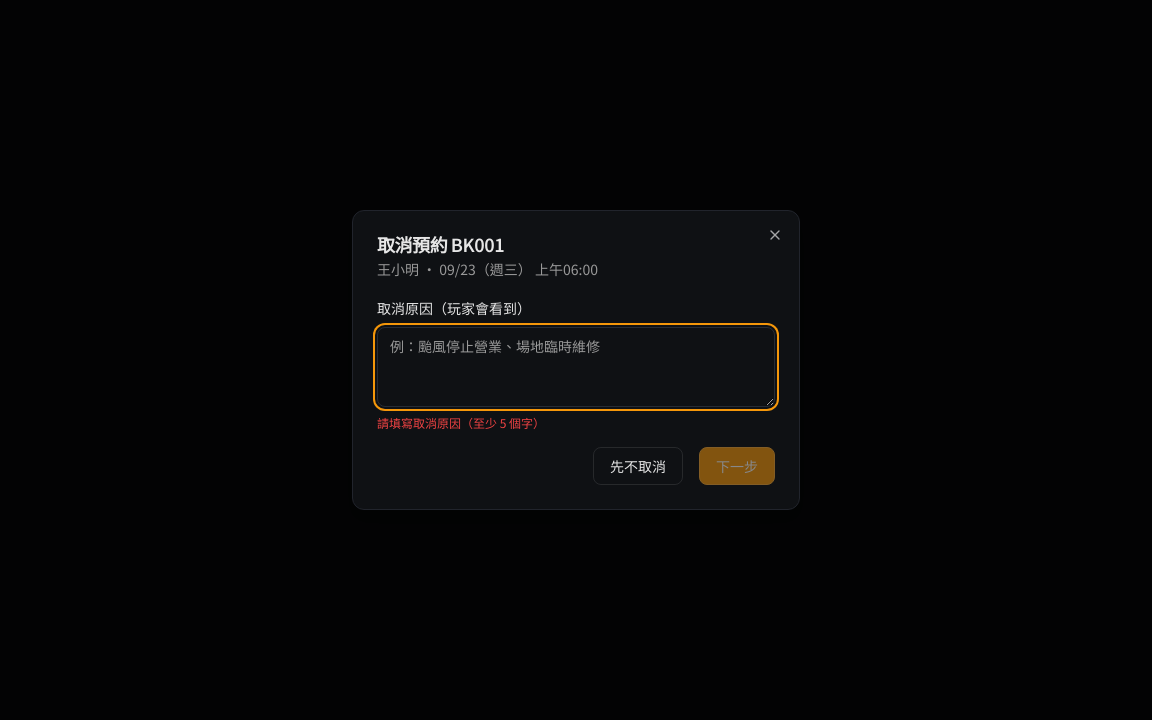
Test: CancelBookingDialog › 填滿 5 字 → 可按下一步，進入確認步驟顯示影響與原因、尚未送出
Type "颱風停業中" into the text box with test id "input-cancel-reason".
click(576, 367); type("颱風停業中")  # box [377,327,775,407]
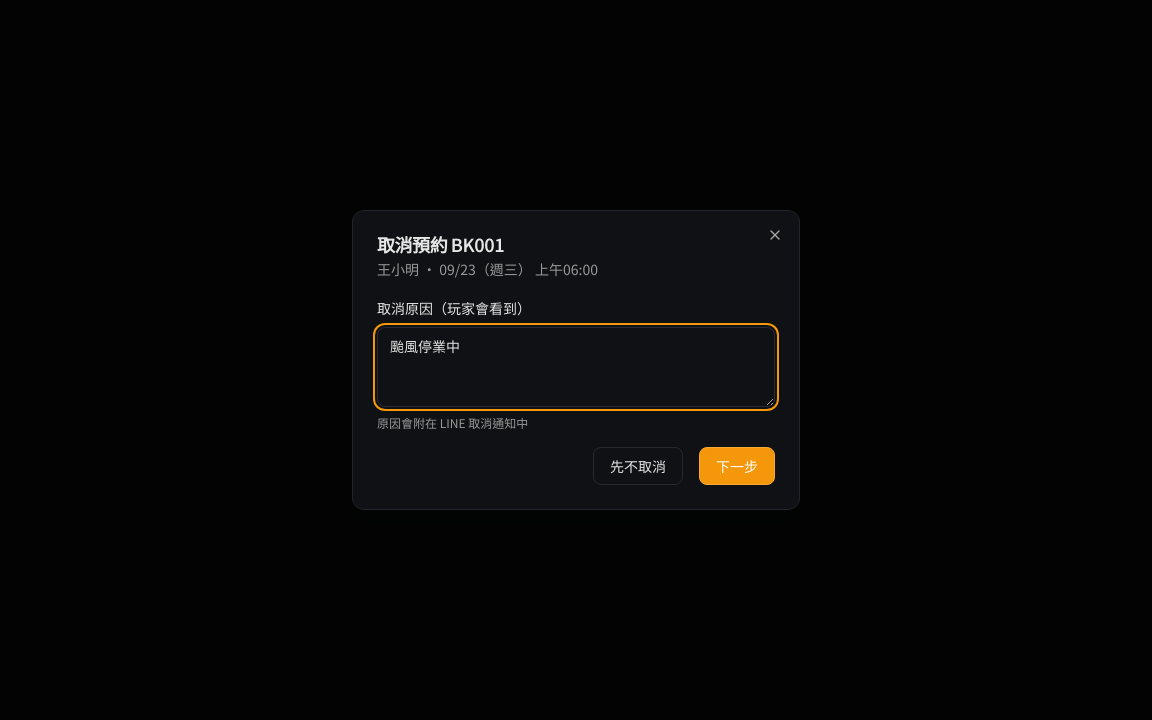
Click the button with test id "button-cancel-next".
click(737, 466)  # box [699,447,775,485]
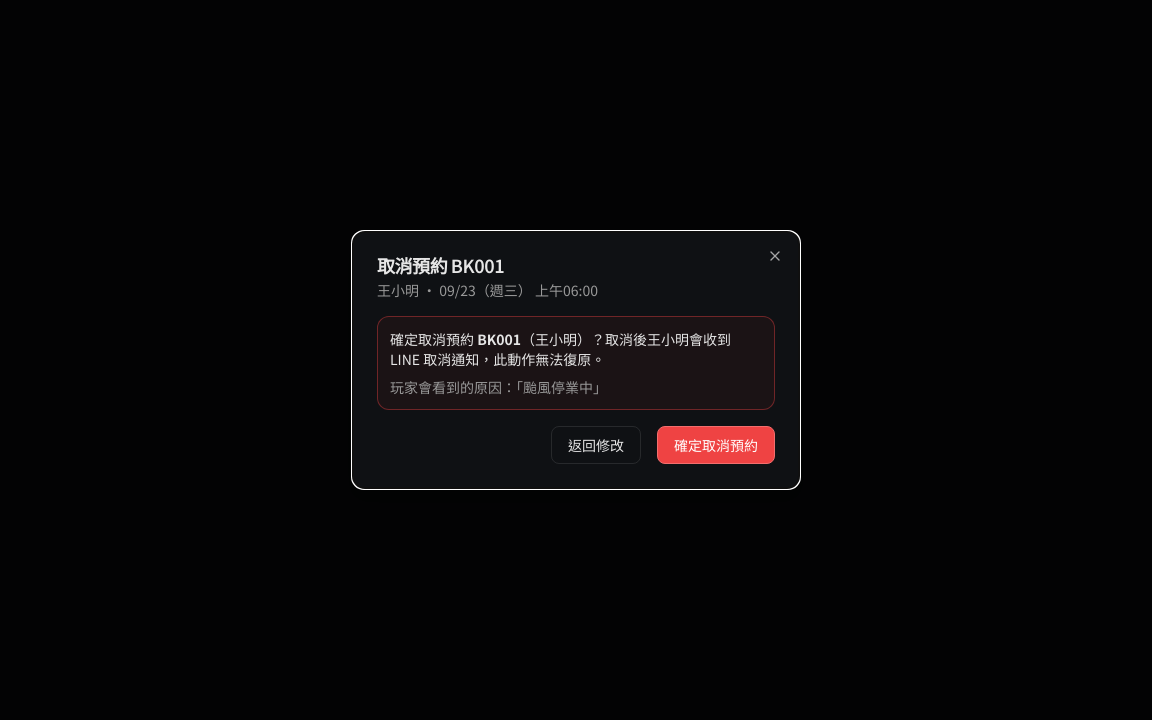
Result: the element with test id "cancel-confirm-summary" shows "BK001" at [477,329,521,349]
Result: the element with test id "cancel-confirm-summary" shows "LINE" at [390,329,731,369]
Result: the element with test id "cancel-confirm-summary" shows "颱風停業中" at [523,377,593,397]
